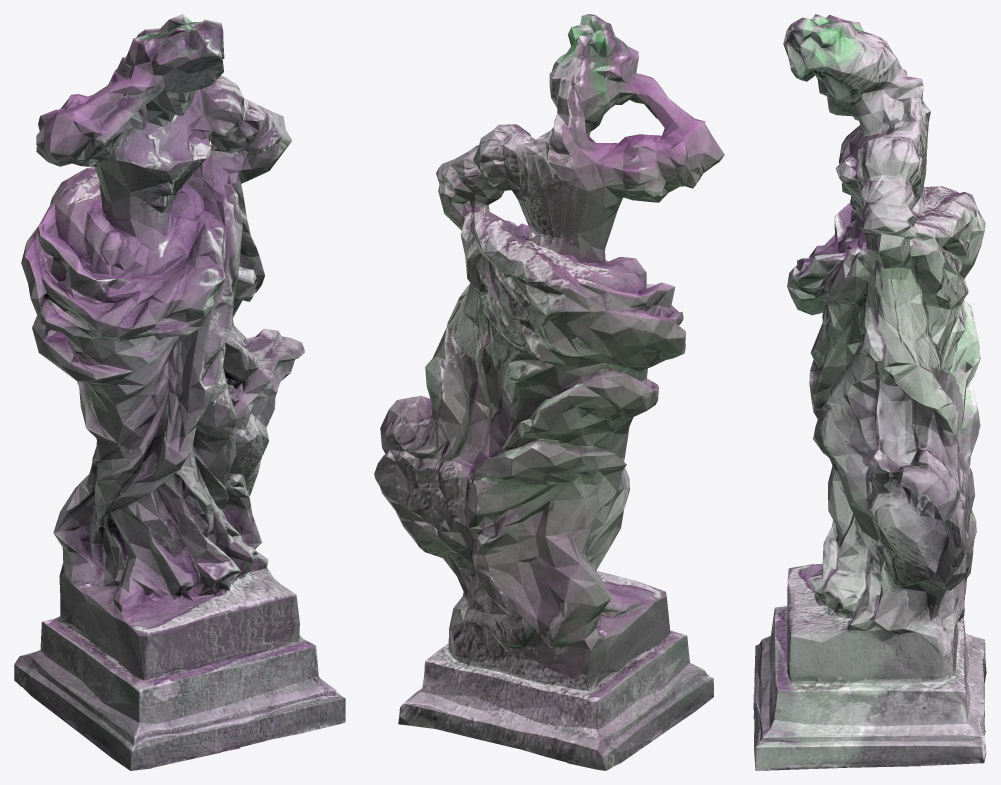
Rendered from pycha2.glb.
3 views of the same model, side by side, from view 1: azimuth 30°, elevation 25°; view 2: azimuth 150°, elevation 25°; view 3: azimuth 270°, elevation 25° (orthographic). The views are drawn at different scales.
Parts seen in each view (by area): view 1: Pycha; view 2: Pycha; view 3: Pycha.
Boxes of the visible parts, x1=… form: Pycha: x1=14, y1=14, x2=345, y2=770; Pycha: x1=374, y1=14, x2=724, y2=770; Pycha: x1=753, y1=14, x2=986, y2=770.
Size of the model in its own units: 1.23 by 2.76 by 0.8355.
1 material, 1 textured.
